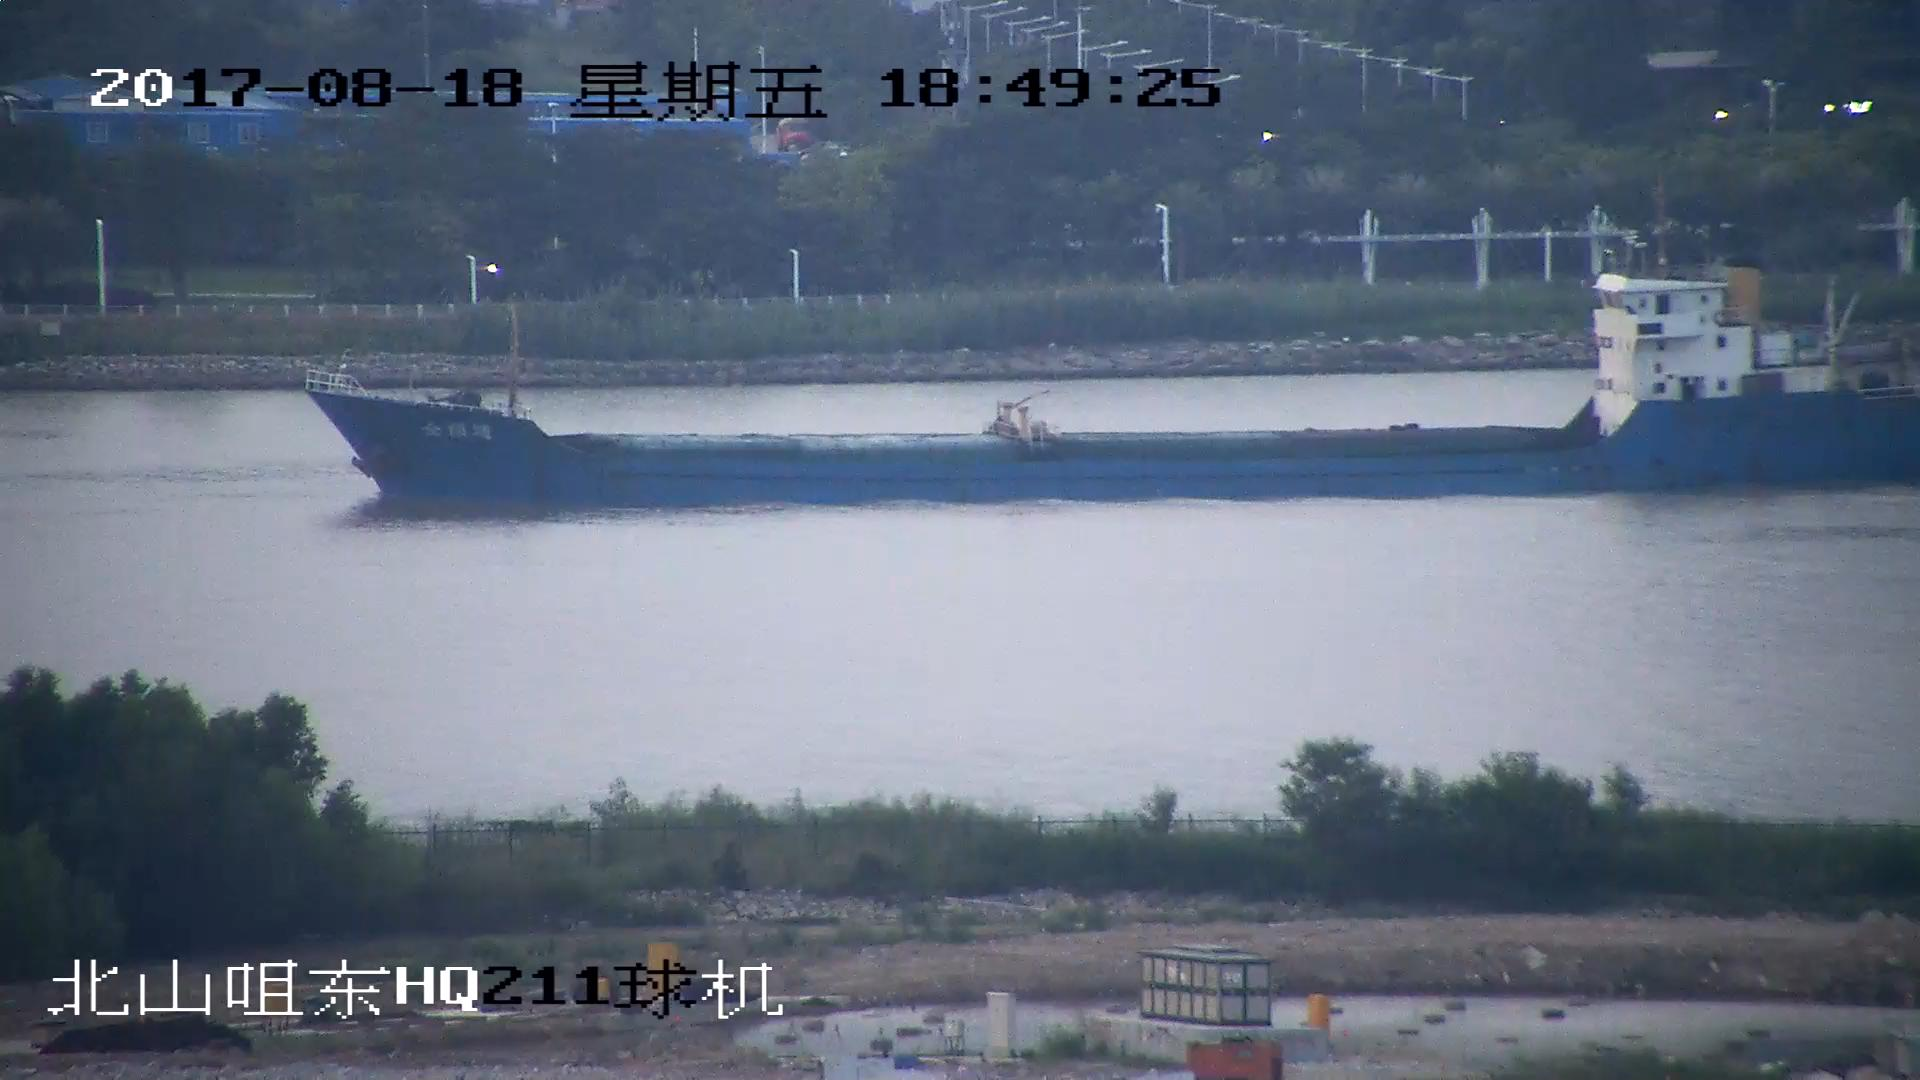general cargo ship: (307, 227, 1909, 505)
